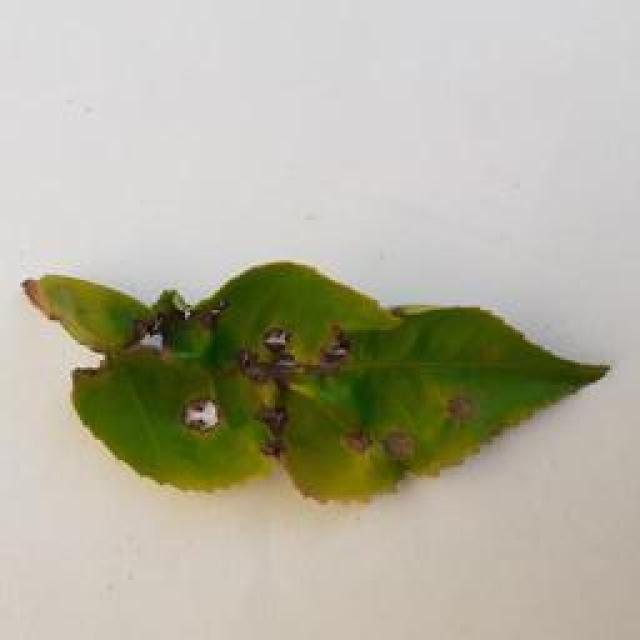Helopeltis: (10, 243, 638, 514)
